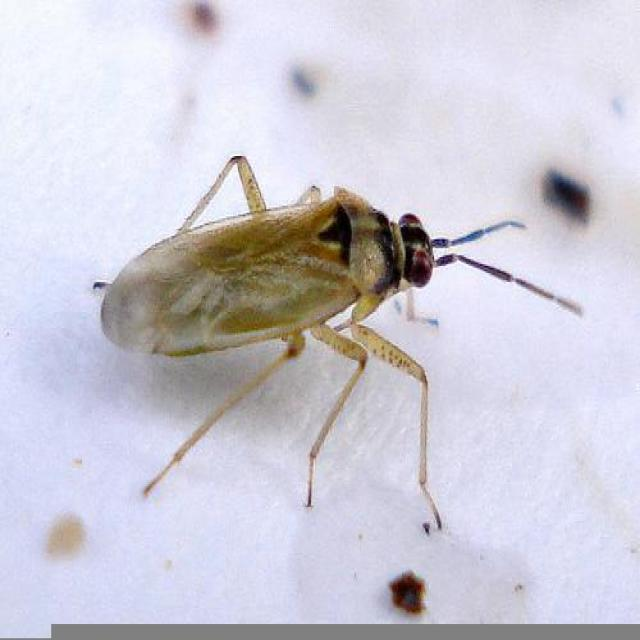Miridae-Adult-: (36, 120, 584, 532)
